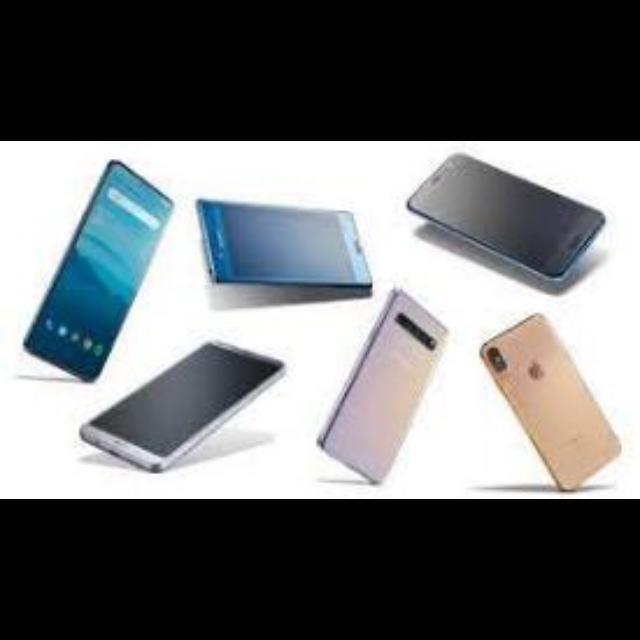Phone: (18, 152, 172, 368), (312, 277, 456, 488), (406, 152, 614, 284), (88, 332, 298, 462), (476, 316, 604, 497), (198, 196, 380, 296)
